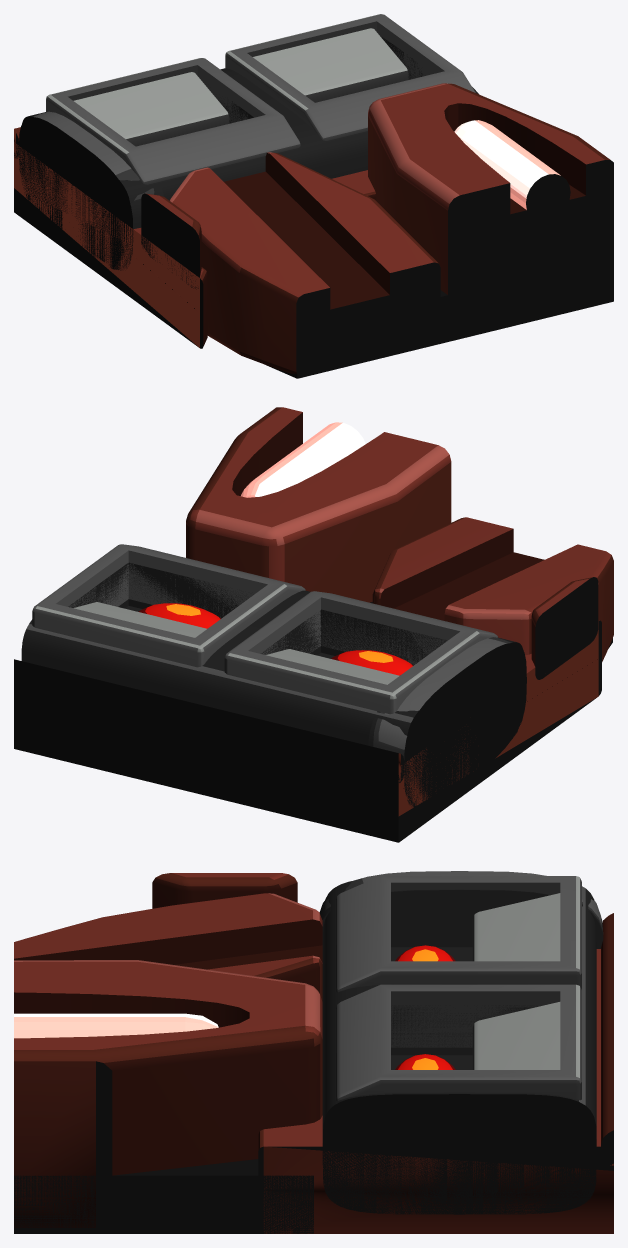
Rendered from savara_boss_241.glb.
3 renders of one model, top to bottom at view 1: azimuth 30°, elevation 25°; view 2: azimuth 150°, elevation 25°; view 3: azimuth 270°, elevation 25°, orthographic. The views are drawn at different scales.
Visible parts, largest first — view 1: savara_boss_241; view 2: savara_boss_241; view 3: savara_boss_241.
Boxes of the visible parts, x1,y1,x2,y2 form: savara_boss_241: (14, 14, 613, 378); savara_boss_241: (14, 407, 613, 842); savara_boss_241: (14, 871, 613, 1233).
Bounding box in the file's own units: 24 × 9.2 × 28.
